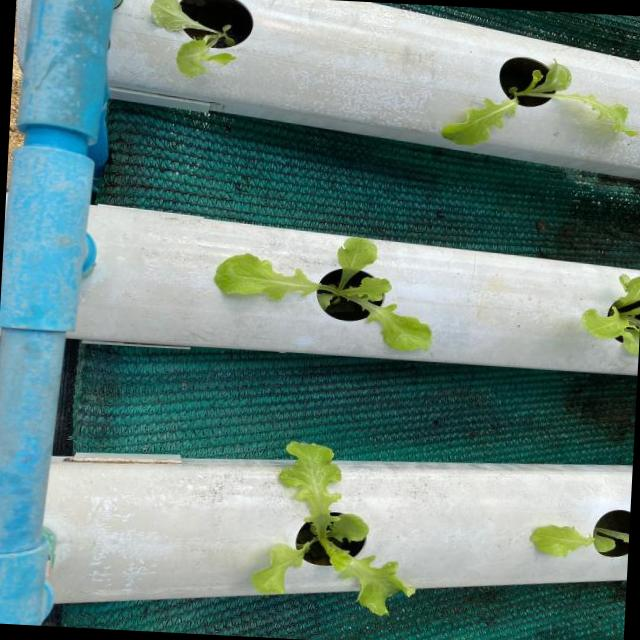Lettuce-Not-Ready-to-Harvest: (252, 444, 415, 615), (216, 238, 432, 351), (441, 62, 635, 145), (151, 0, 235, 77), (583, 275, 640, 355), (530, 525, 629, 556)
